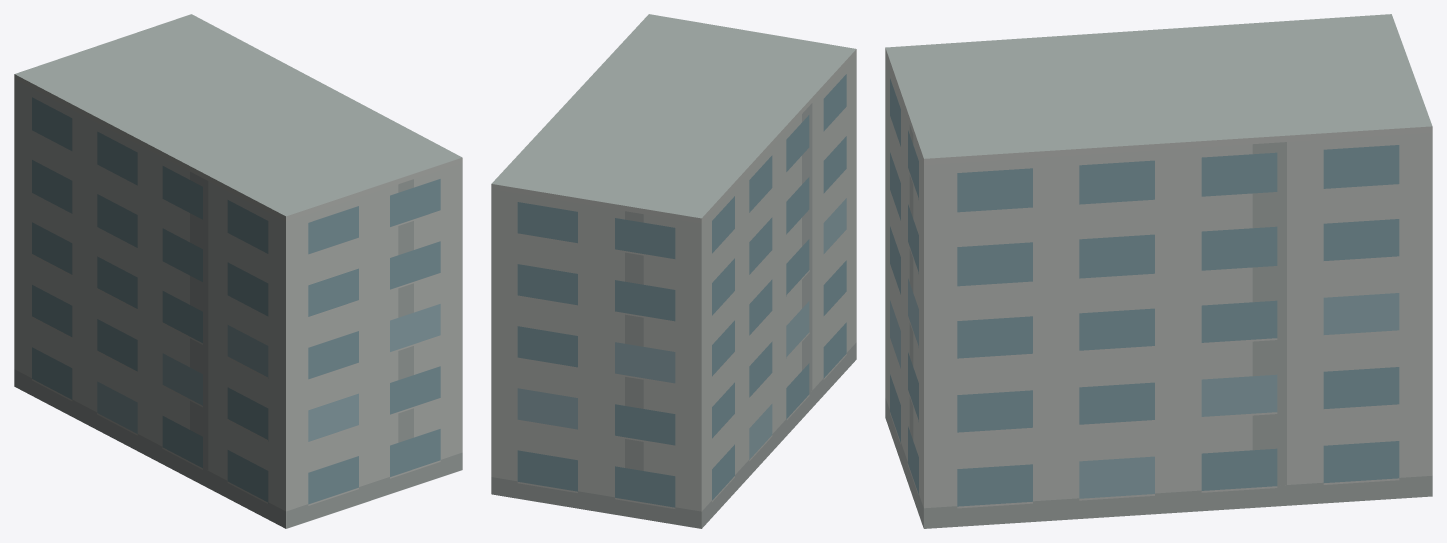
The model's file is survey-upis-32988256.glb.
3 views of the same model, side by side, from view 1: azimuth 30°, elevation 25°; view 2: azimuth 150°, elevation 25°; view 3: azimuth 270°, elevation 25° (orthographic). The views are drawn at different scales.
Visible parts, largest first — view 1: survey-upis-32988256.tmp; view 2: survey-upis-32988256.tmp; view 3: survey-upis-32988256.tmp.
Boxes of the visible parts, left/top/right/bottom form: survey-upis-32988256.tmp: left=14, top=14, right=462, bottom=528; survey-upis-32988256.tmp: left=491, top=14, right=856, bottom=528; survey-upis-32988256.tmp: left=885, top=14, right=1432, bottom=528.
Size of the model in its own units: 11.93 by 14.2 by 19.04.
